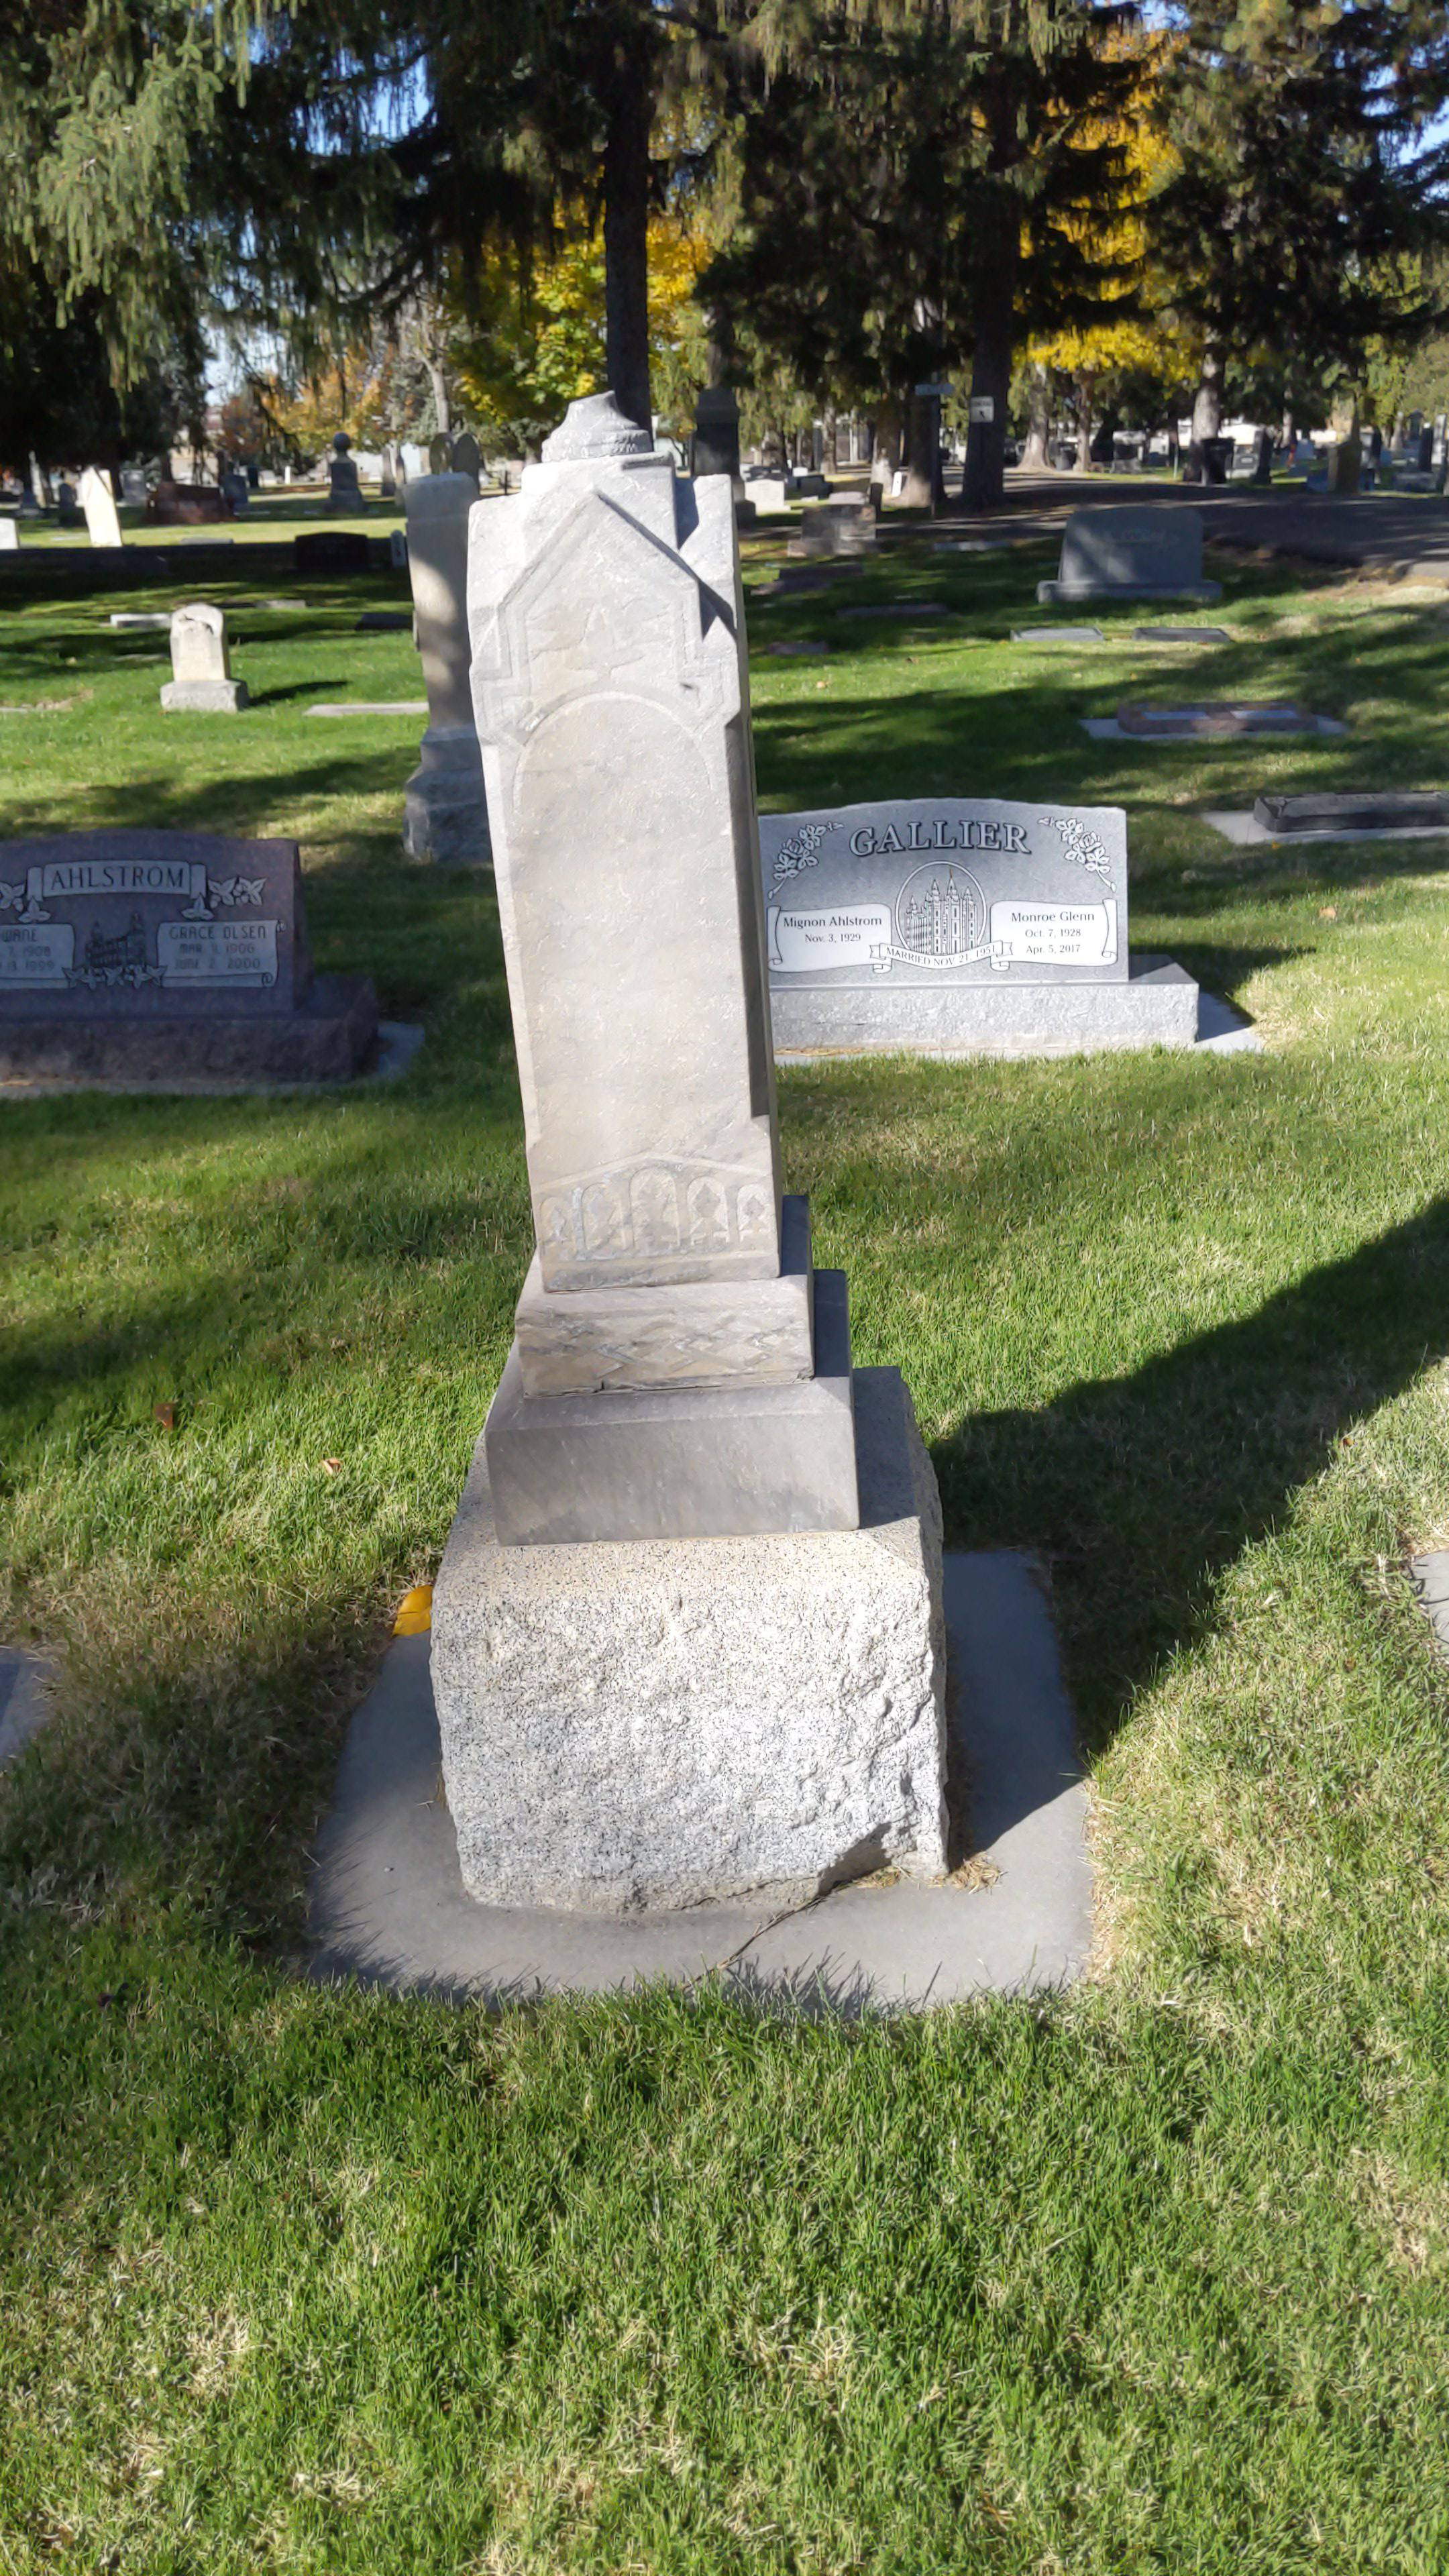obelisk: (464, 405, 867, 1532)
